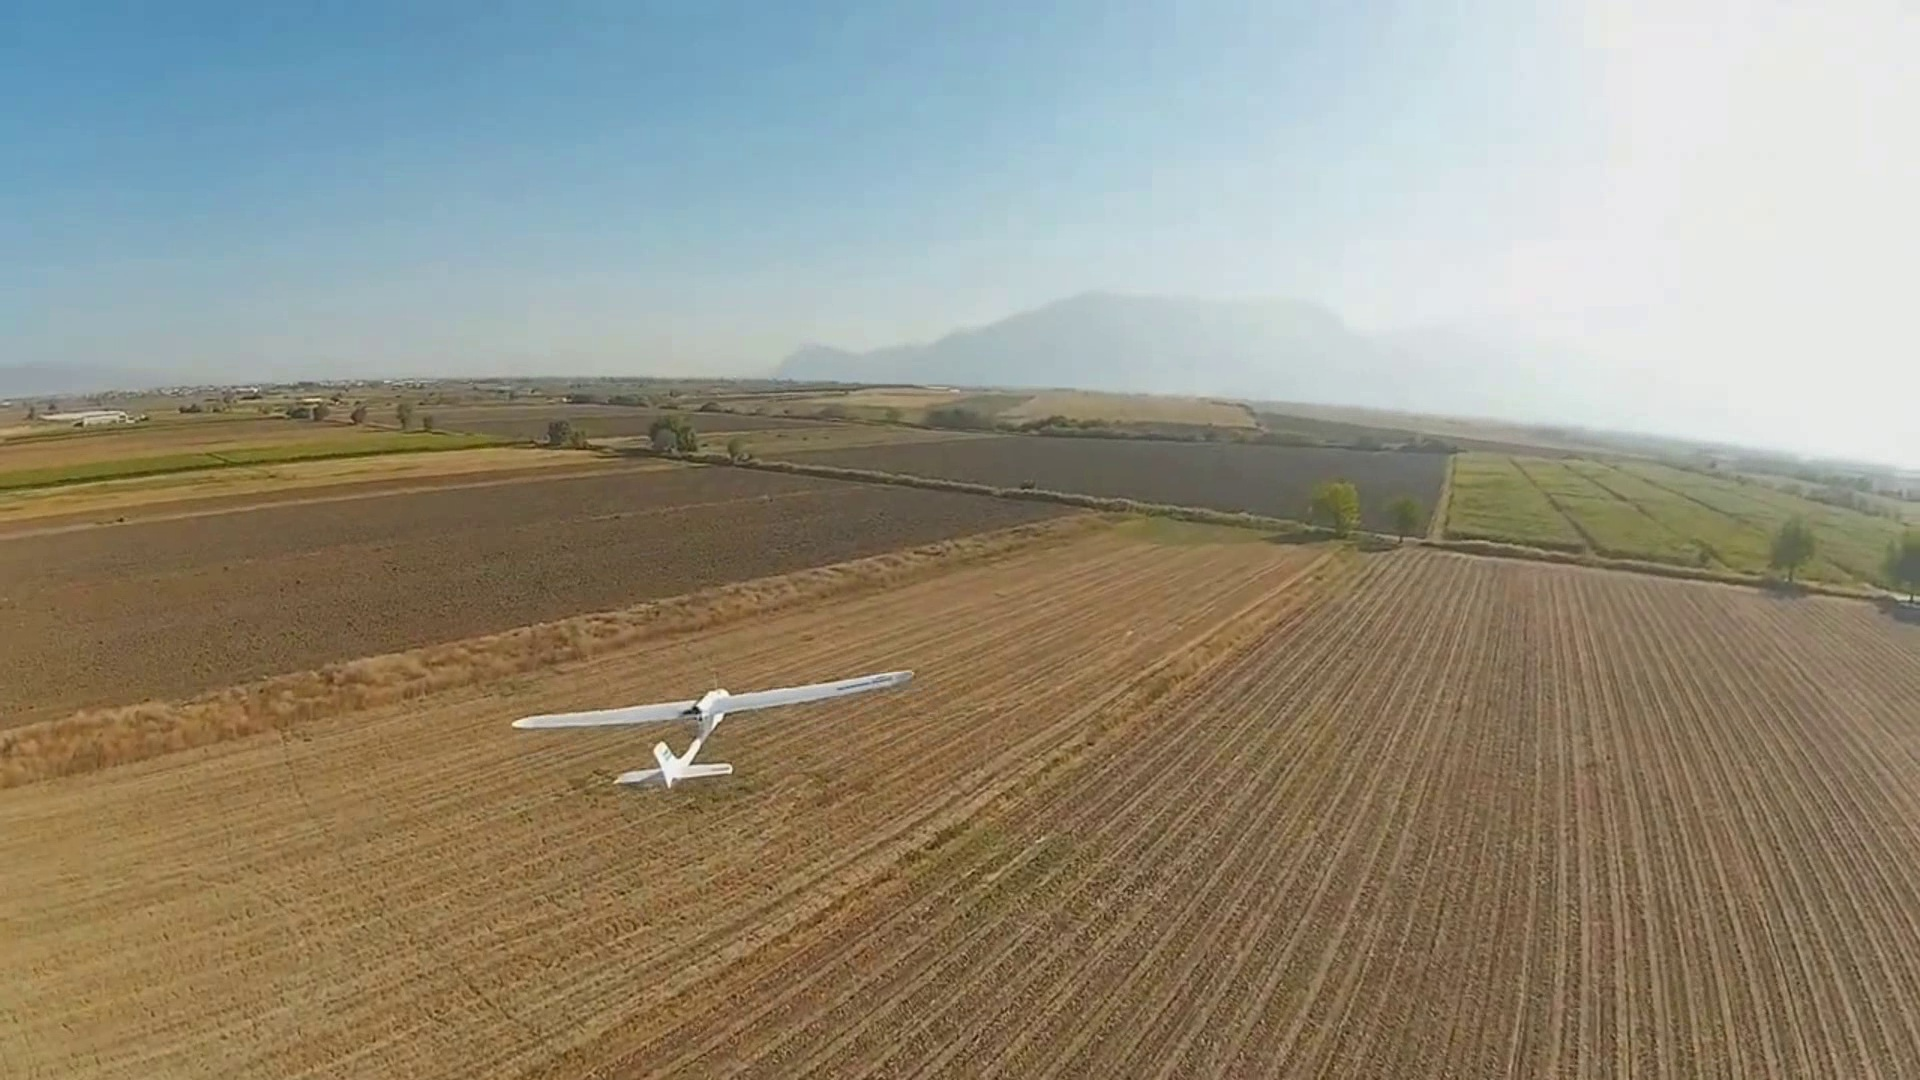airplane: (506, 674, 912, 793)
